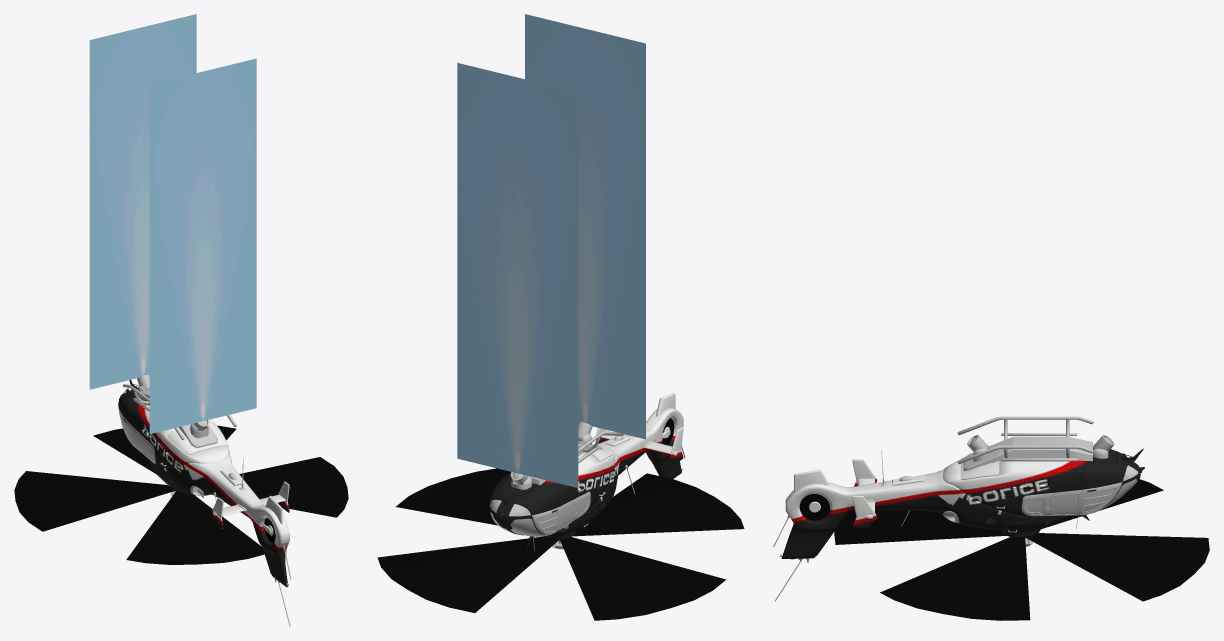
The model's file is helicopter.fbx.
The picture shows the model from 3 angles, left to right: view 1: azimuth 30°, elevation 25°; view 2: azimuth 150°, elevation 25°; view 3: azimuth 270°, elevation 25°; orthographic projection. The views are drawn at different scales.
Parts seen in each view (by area): view 1: 106_lightbeam_mesh_rear, 70_lightbeam_mesh_front, 43_mesh_opaque_propelfrontfast_lod_00, 172_mesh_paint, 142_mesh_plastic; view 2: 70_lightbeam_mesh_front, 106_lightbeam_mesh_rear, 43_mesh_opaque_propelfrontfast_lod_00, 172_mesh_paint, 142_mesh_plastic, 187_mesh_glass; view 3: 43_mesh_opaque_propelfrontfast_lod_00, 172_mesh_paint, 142_mesh_plastic, 187_mesh_glass.
Part boxes in pixels (x1,y1,x2,y2): 106_lightbeam_mesh_rear: (149, 58, 256, 433); 70_lightbeam_mesh_front: (89, 14, 196, 389); 43_mesh_opaque_propelfrontfast_lod_00: (14, 425, 348, 564); 172_mesh_paint: (118, 380, 289, 587); 142_mesh_plastic: (118, 384, 291, 626); 70_lightbeam_mesh_front: (457, 63, 578, 487); 106_lightbeam_mesh_rear: (525, 14, 645, 439); 43_mesh_opaque_propelfrontfast_lod_00: (377, 468, 744, 620); 172_mesh_paint: (489, 393, 683, 546); 142_mesh_plastic: (511, 431, 685, 550); 187_mesh_glass: (490, 498, 587, 536); 43_mesh_opaque_propelfrontfast_lod_00: (834, 479, 1209, 620); 172_mesh_paint: (781, 448, 1144, 558); 142_mesh_plastic: (773, 416, 1122, 601); 187_mesh_glass: (1027, 457, 1138, 514).
Size of the model in its own units: 10.73 by 17.59 by 12.48.
